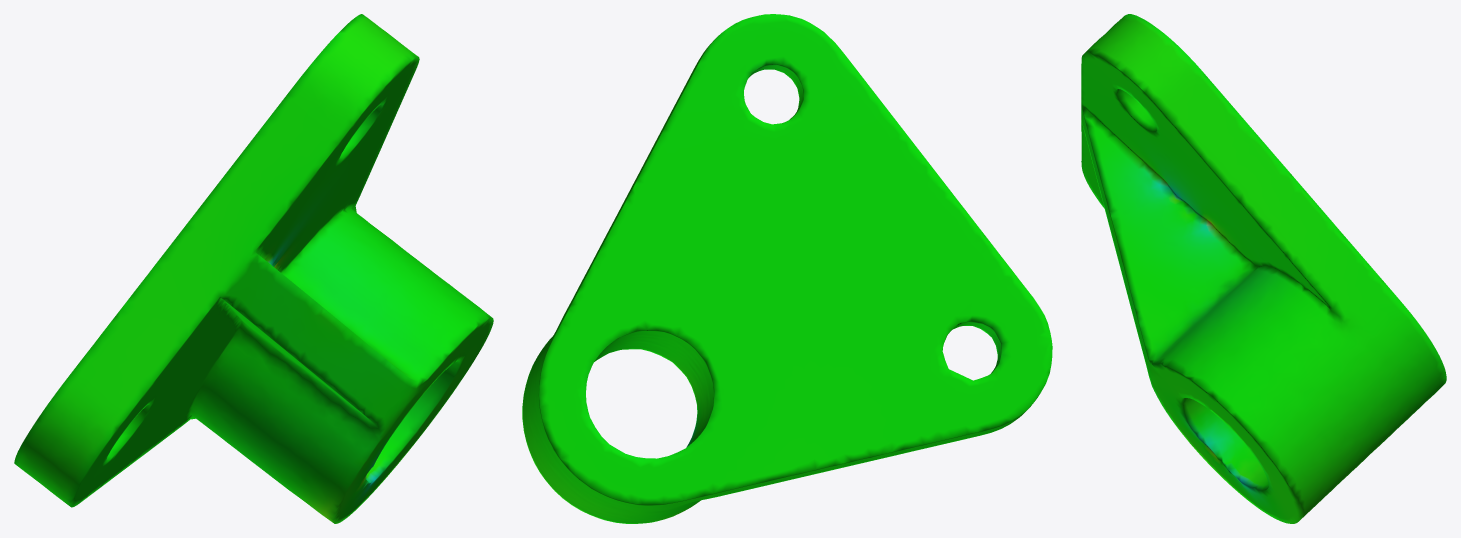
Rendered from all=0.000158-hole=0.001698-mgcn-w-refine.obj.
3 views of the same model, side by side, from view 1: azimuth 30°, elevation 25°; view 2: azimuth 150°, elevation 25°; view 3: azimuth 270°, elevation 25° (orthographic). The views are drawn at different scales.
Bounding box in the file's own units: 61.62 × 61.59 × 44.12.
